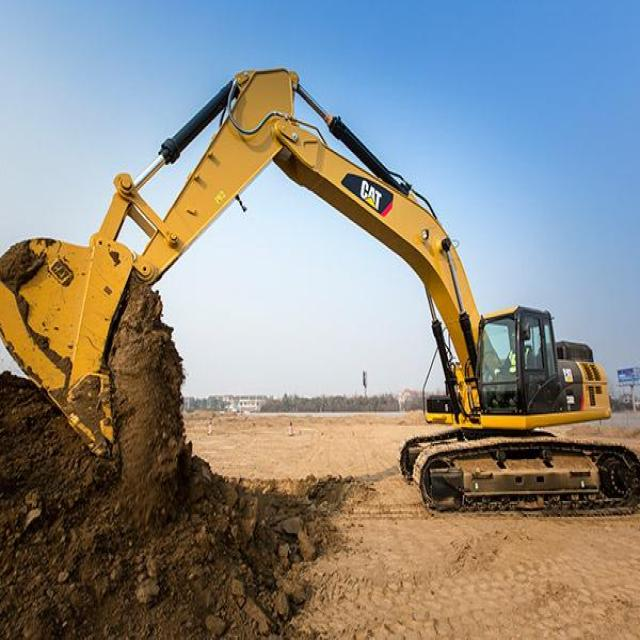excavator: (1, 63, 638, 531)
